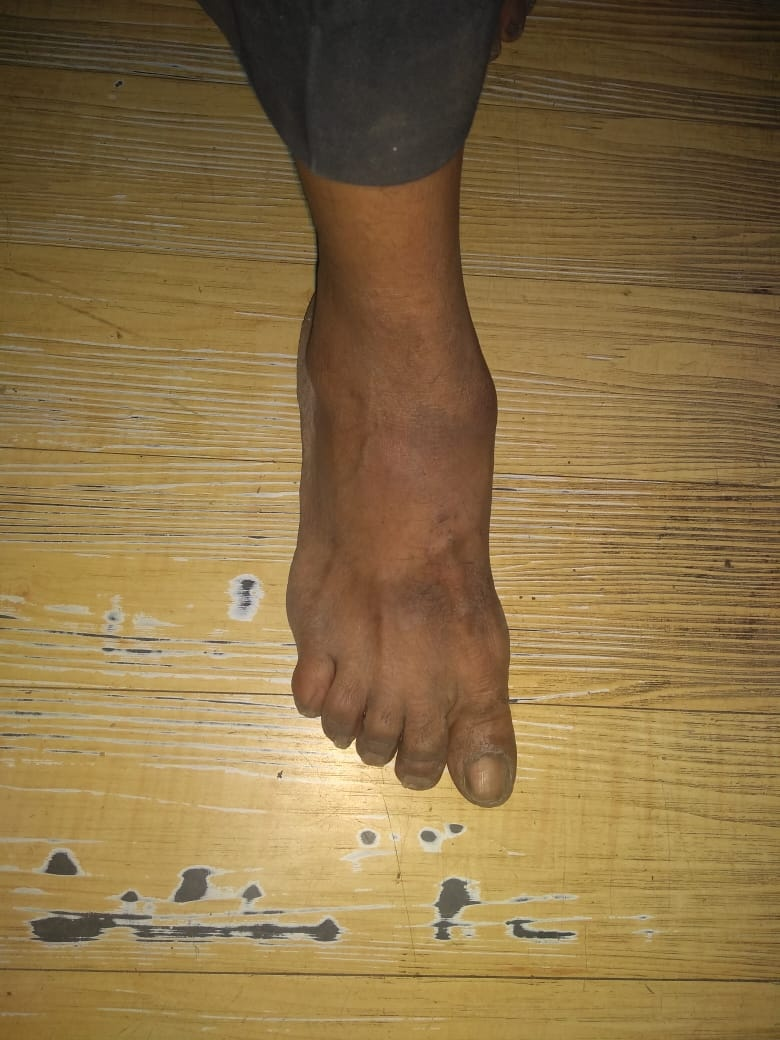feet: (237, 256, 530, 813)
